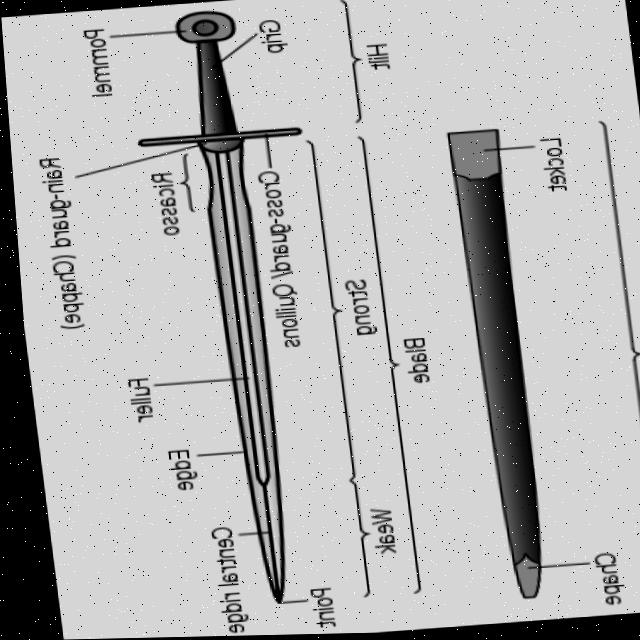knife: (125, 0, 338, 614), (427, 125, 579, 616)
